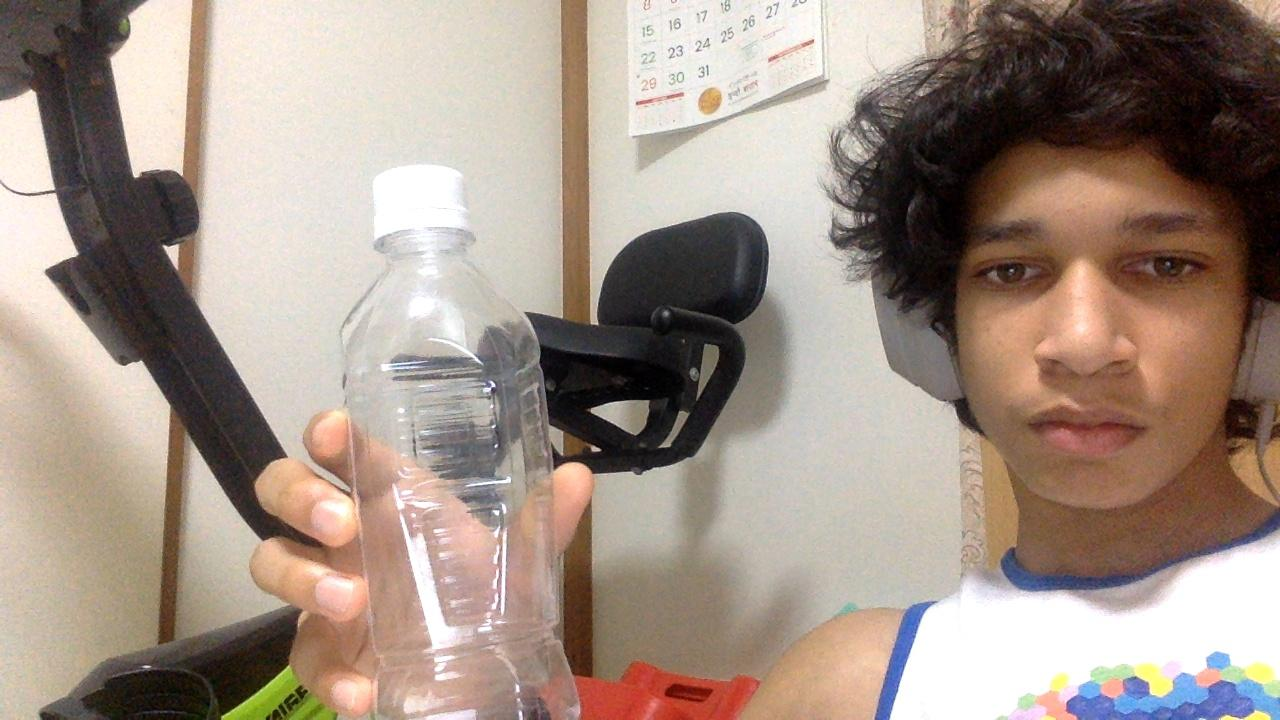Plastic: (333, 163, 583, 720)
